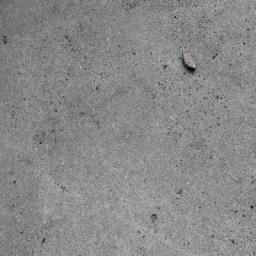FOD: (177, 44, 202, 77)
